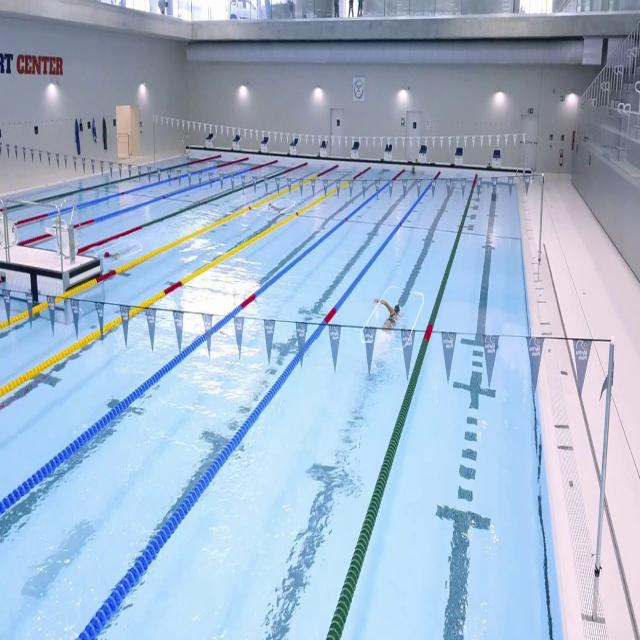Swimming: (374, 298, 406, 334), (100, 245, 136, 260), (267, 202, 291, 215)
